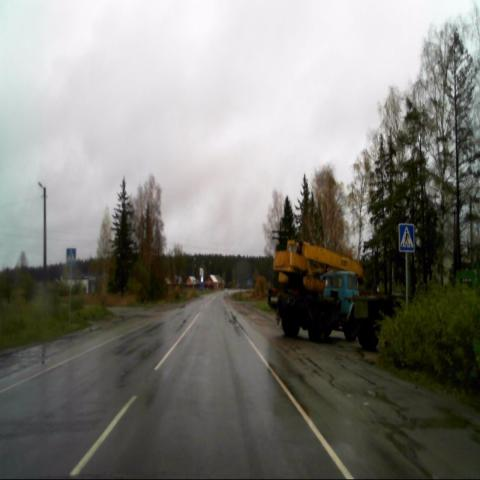5_19_1: (398, 222, 415, 253), (65, 247, 76, 266)
